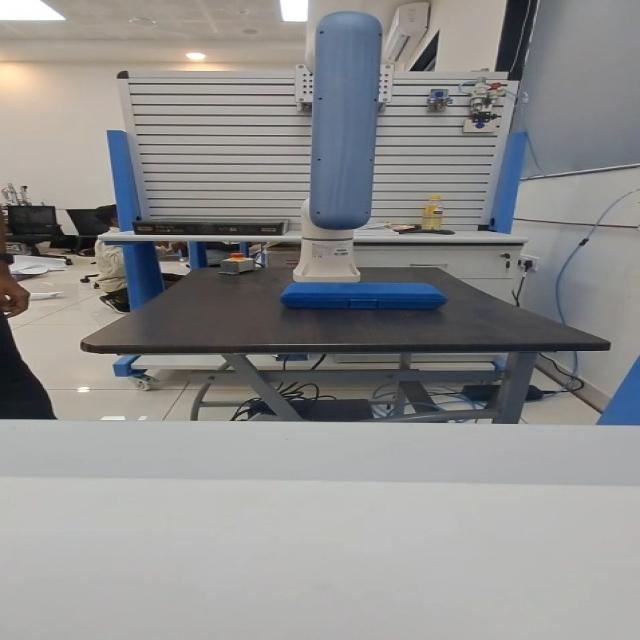top-surface: (303, 284, 424, 292)
